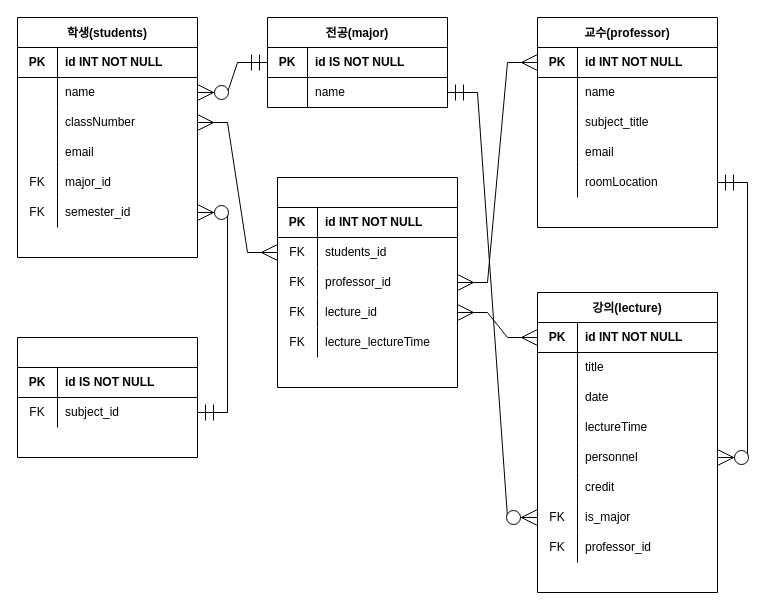
Some shapes in this 782 by 610 pixel diagram are drawn without their labels. The shapes that lost their labels are listed below. From the top down, each one's box as (x1, y1, x2, y2) in pixels, then its label:
(276, 176, 458, 388): 시간표(time table)
(16, 336, 198, 458): 학기(semester)
